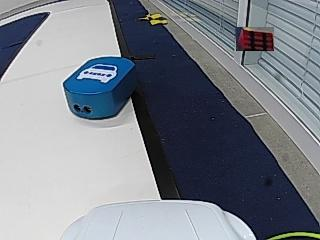safety: (78, 63, 118, 82)
